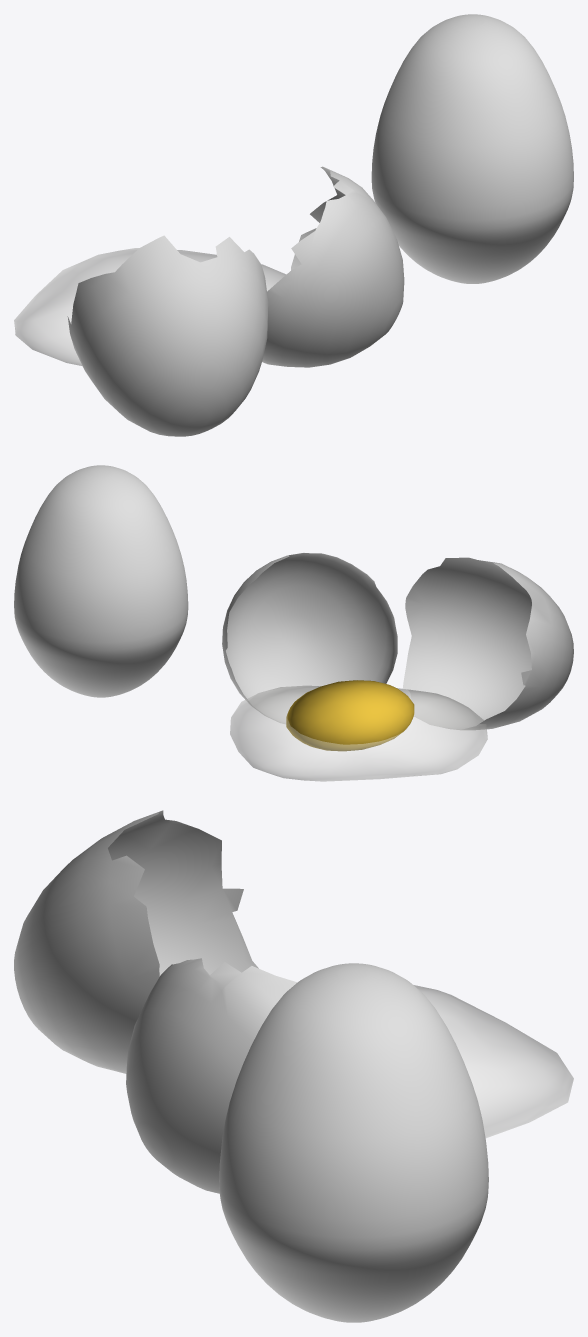
Rendered from UncrackedEgg_239.gltf.
3 renders of one model, top to bottom at view 1: azimuth 30°, elevation 25°; view 2: azimuth 150°, elevation 25°; view 3: azimuth 270°, elevation 25°, orthographic. The views are drawn at different scales.
Visible parts, largest first — view 1: node-0; view 2: node-0; view 3: node-0.
Part boxes in pixels (bbox=[...]): node-0: bbox=[14, 14, 573, 436]; node-0: bbox=[14, 465, 573, 781]; node-0: bbox=[14, 810, 573, 1322].
Bounding box in the file's own units: 53.93 × 25 × 36.18.
